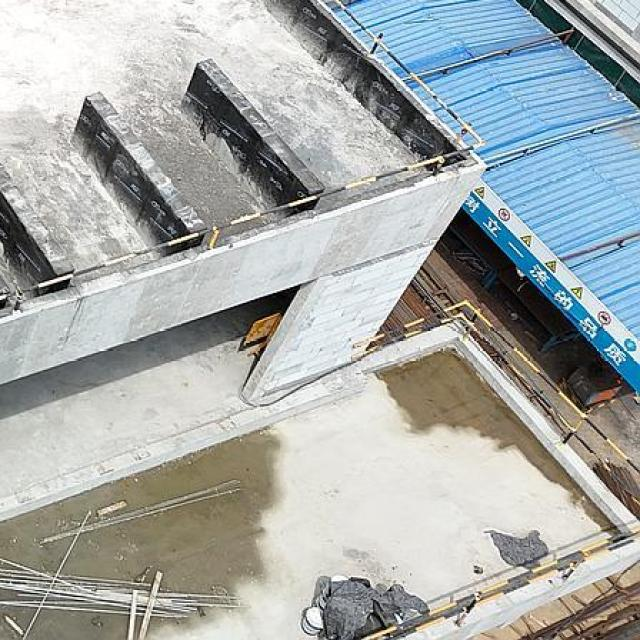Guardrail: (0, 0, 489, 313), (348, 297, 640, 510), (355, 523, 640, 640)
